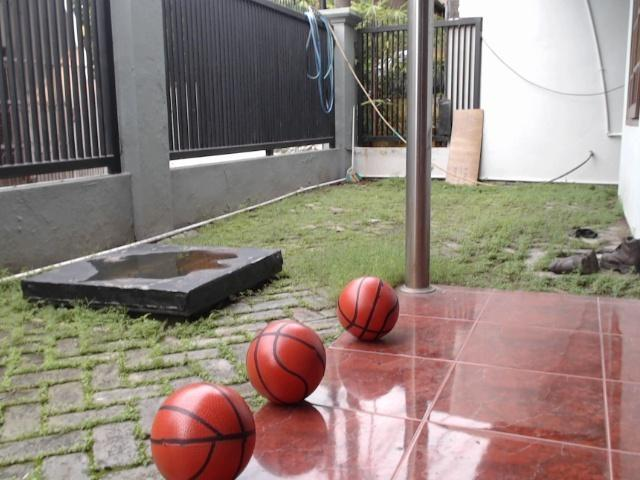Sports-Ball: (149, 387, 258, 480), (240, 321, 329, 402), (331, 270, 408, 344)
